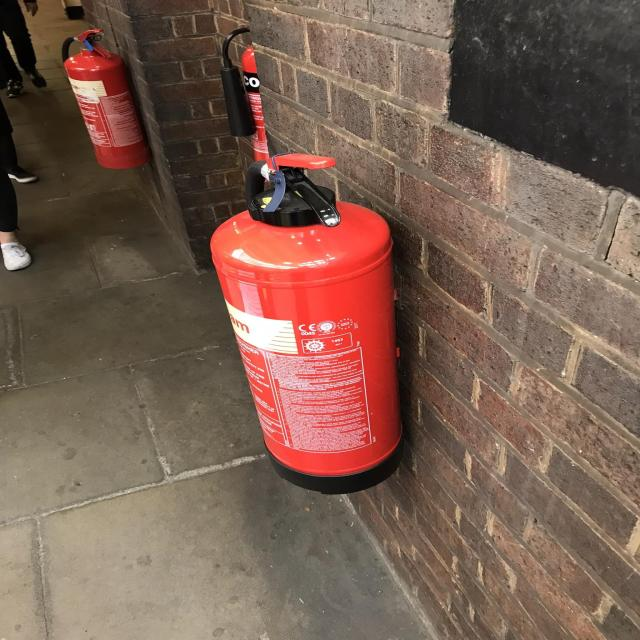fire_extinguisher: (202, 150, 412, 496), (50, 24, 154, 172), (214, 23, 304, 184)
